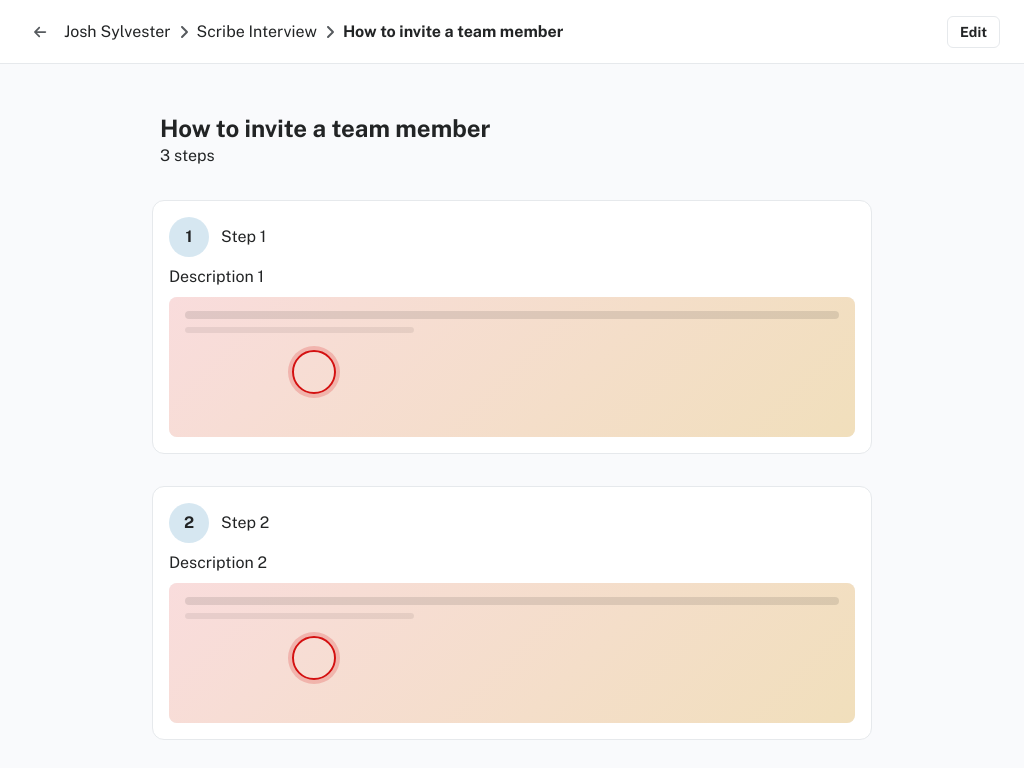
Test: App: locked steps › deleting the locked first step moves the lock to the new first step on Done editing
Click the button "Edit" at x=974, y=32, box [947,16,1000,48]
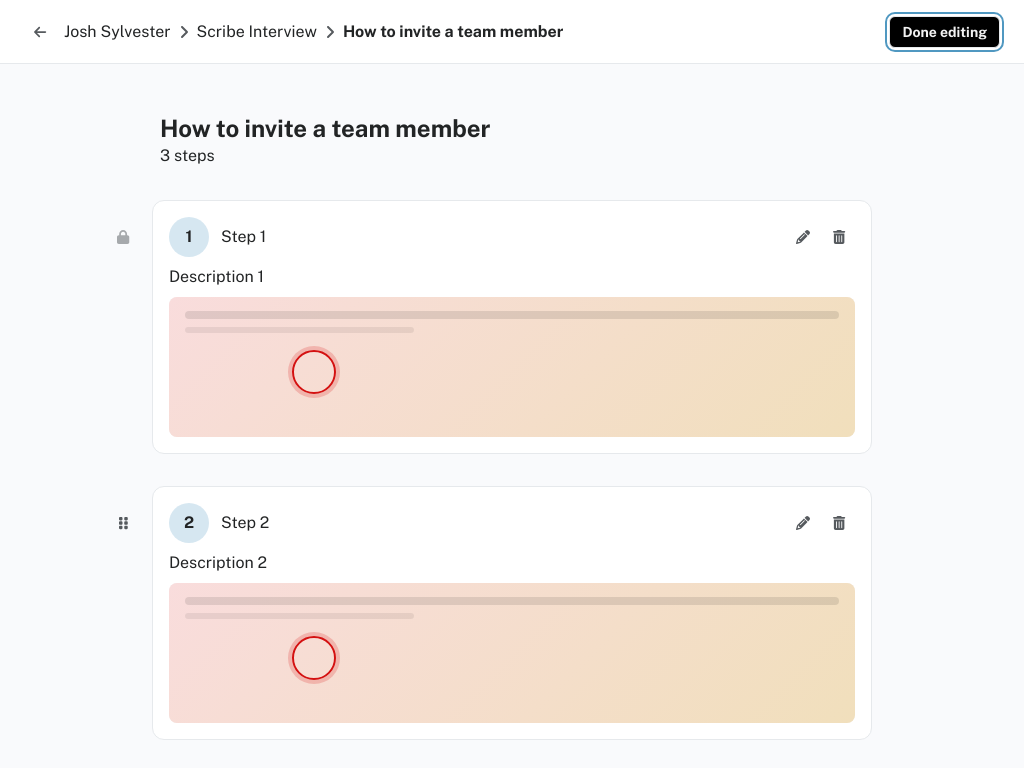
Click the button named "Delete Step 1" at x=839, y=237, box [823,221,855,253]
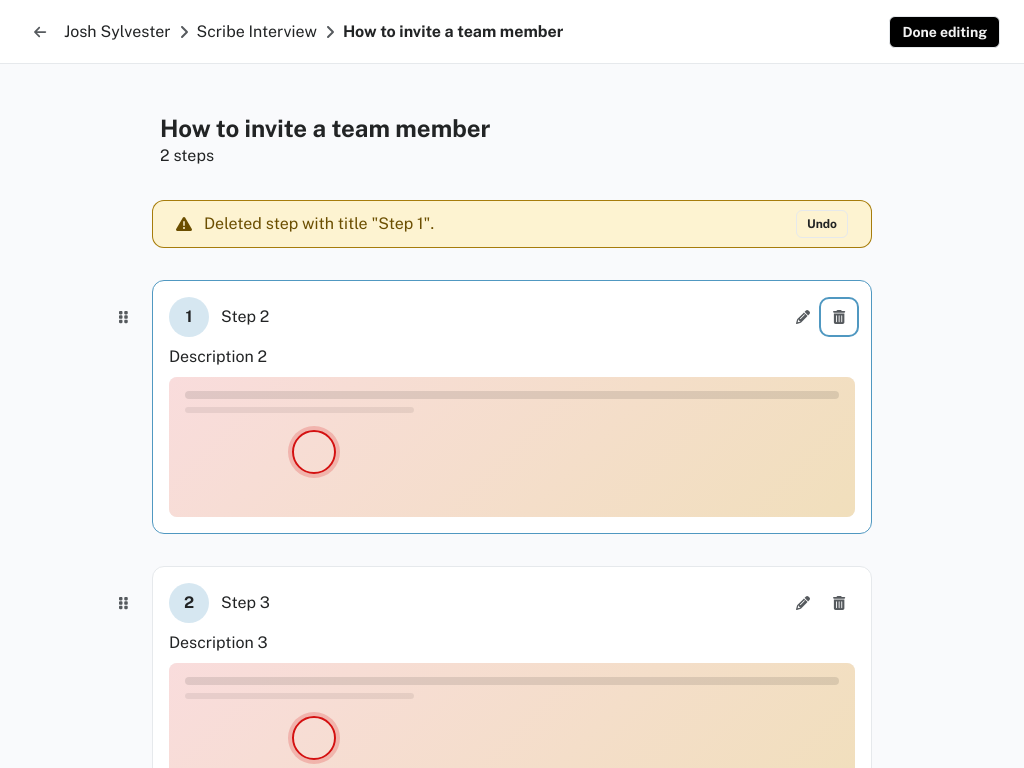
Check: the button named "Reorder Step 2" is shown, box [107,301,139,333]
Click the button "Done editing" at x=945, y=32, box [889,16,1000,48]
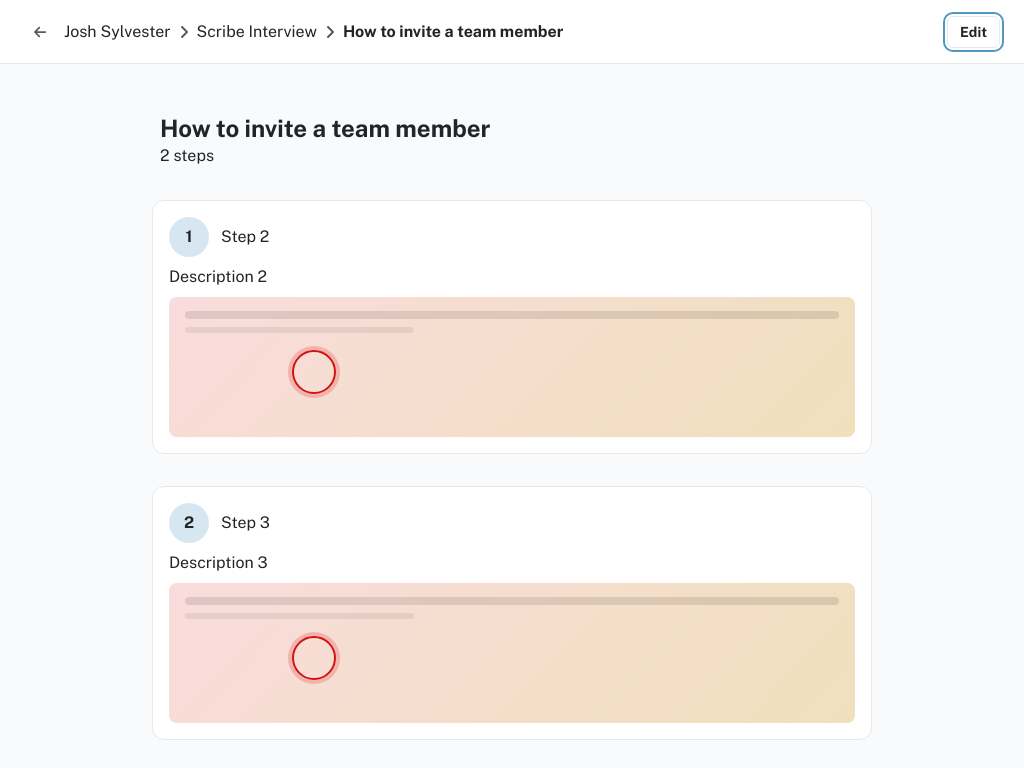
Click the button "Edit" at x=974, y=32, box [947,16,1000,48]
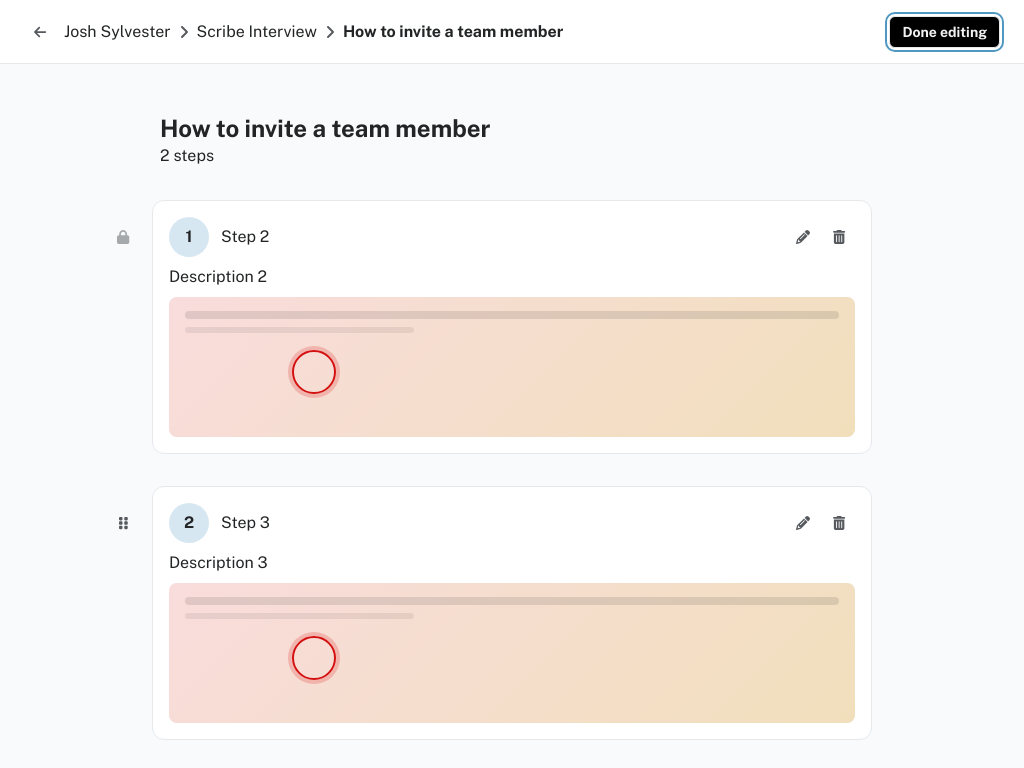
Check: the button named "Locked: this step can't be moved" is shown, box [107,221,139,253]
Check: the button named "Reorder Step 3" is shown, box [107,507,139,539]
